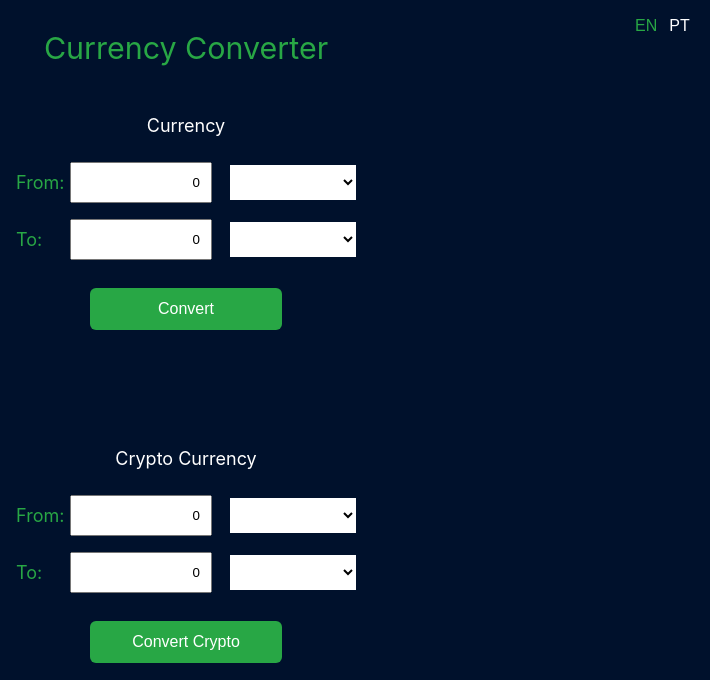
it: Should change the text after another language is selected
What coordinates should you click on to do the following:
click the button "PT"
I would click on:
 (679, 26)
Its box is [663,5,696,47].
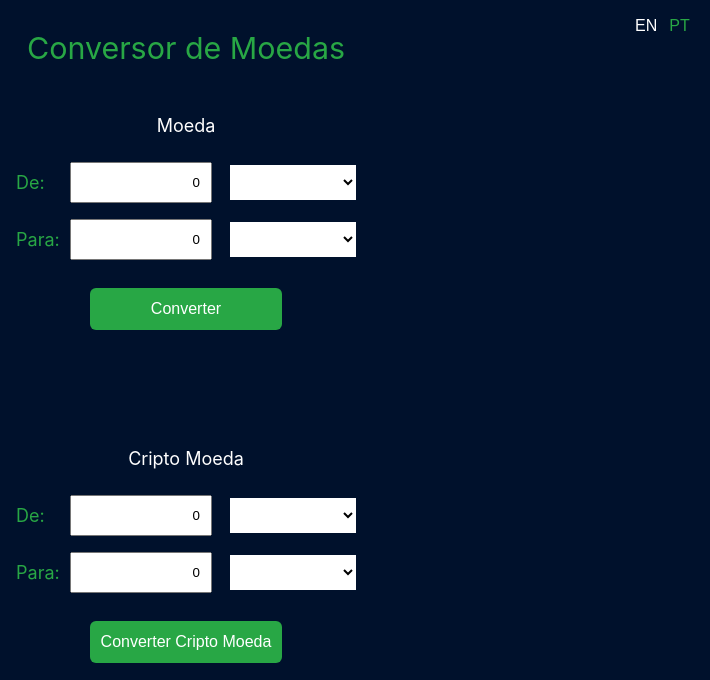
expect the text "Conversor de Moedas" is shown: met, box [27,30,345,66]
